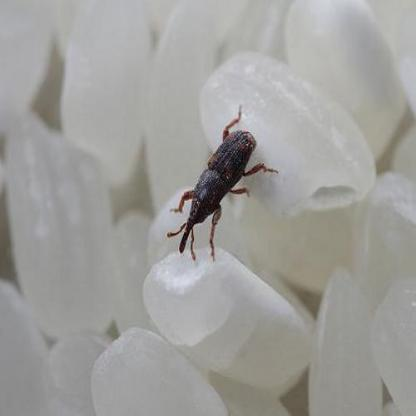rice-bug: (169, 109, 269, 263)
